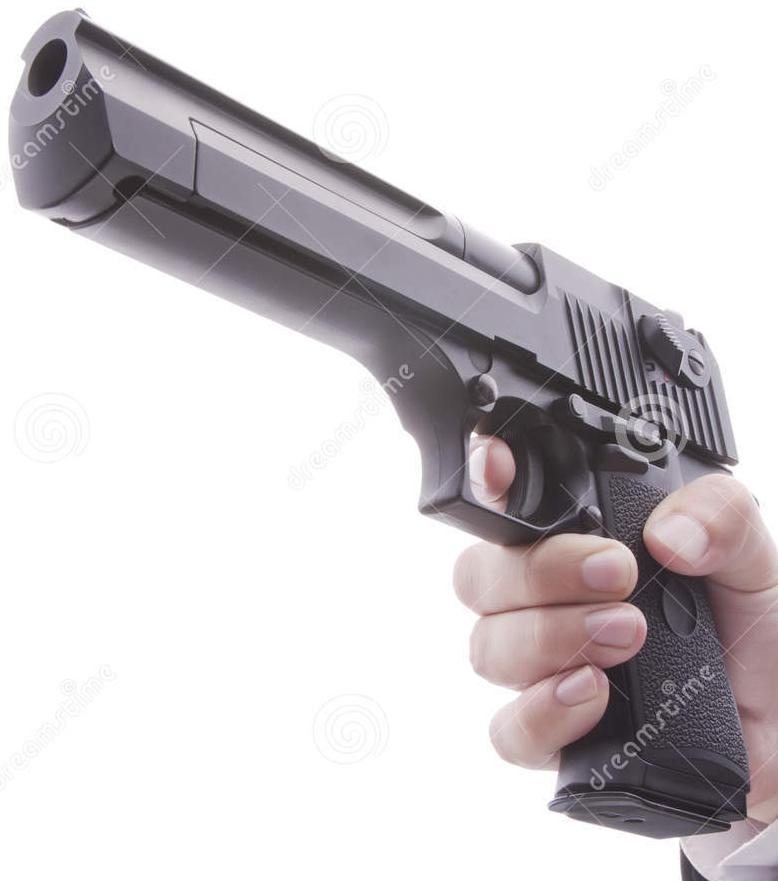gun: (0, 1, 778, 881)
